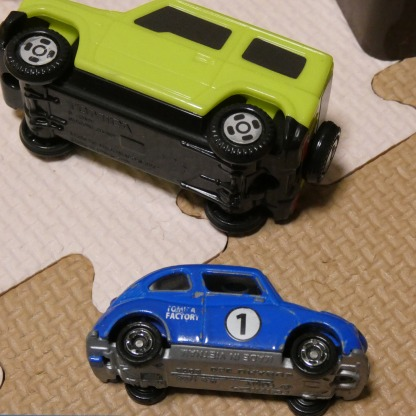car: (1, 0, 339, 236), (83, 261, 375, 413)
